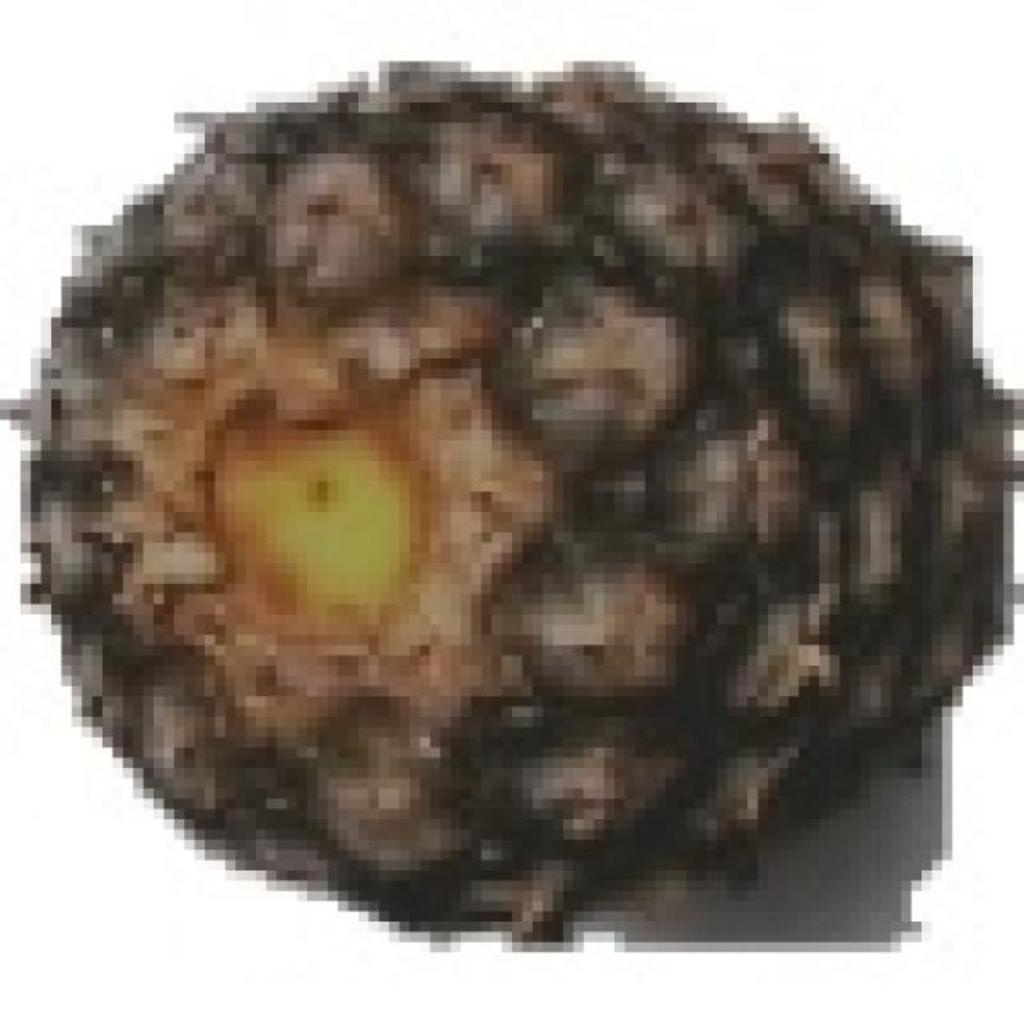pineapple: (20, 51, 983, 922)
